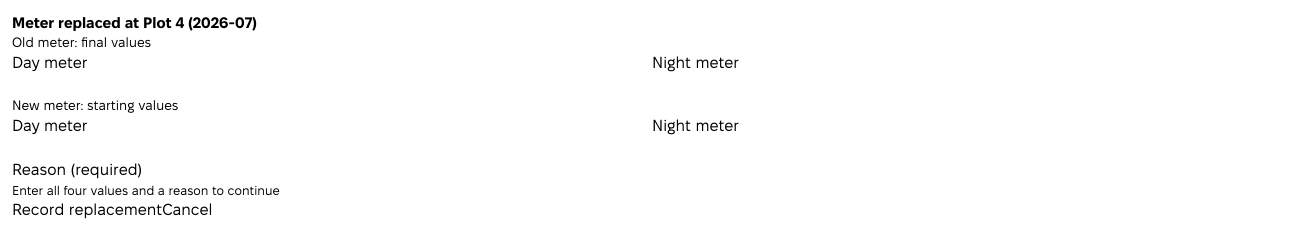
MeterChangeForm › cannot be submitted until all four values and a reason are in
This screenshot has width=1304, height=238.
Expected: the button "Record replacement" is disabled, x1=12 y1=199 x2=162 y2=221
In the field with placeholder "Reason (required)": (652, 170) x1=12 y1=159 x2=1292 y2=181, type "swapped by the utility"
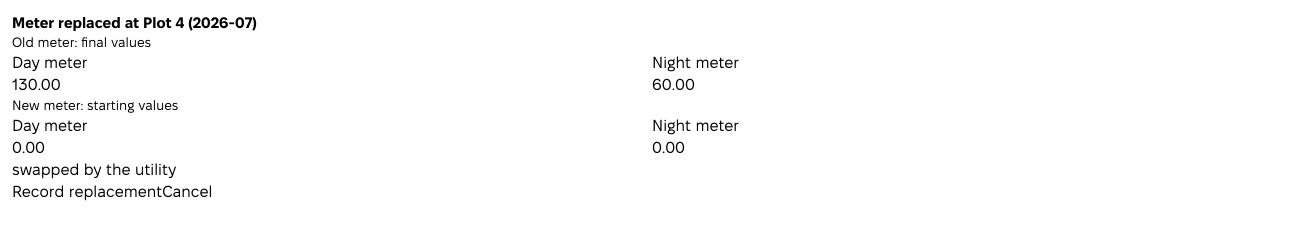
Now the button "Record replacement" is enabled, box x1=12 y1=181 x2=162 y2=203
